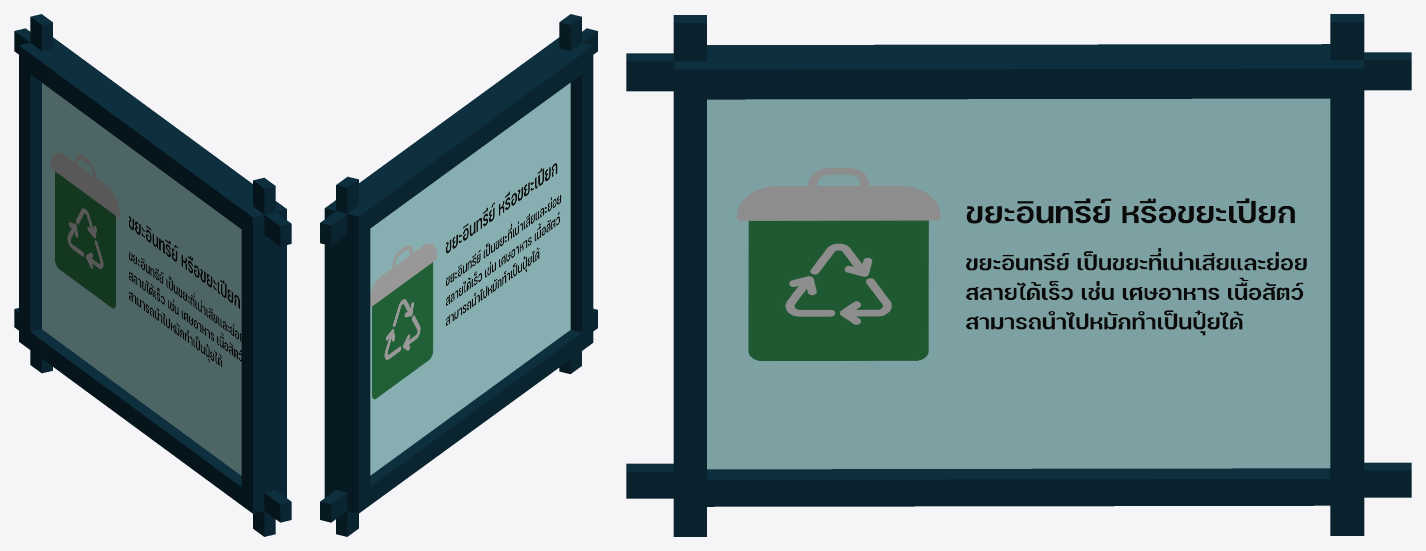
File: 02_Content_Green.fbx
3 views of the same model, side by side, from view 1: azimuth 30°, elevation 25°; view 2: azimuth 150°, elevation 25°; view 3: azimuth 270°, elevation 25° (orthographic). The views are drawn at different scales.
Parts seen in each view (by area): view 1: sign_info2; view 2: sign_info2; view 3: sign_info2.
Boxes of the visible parts, <box> form: sign_info2: <box>14,14,291,536</box>; sign_info2: <box>320,14,597,536</box>; sign_info2: <box>626,14,1411,536</box>.
Bounding box in the file's own units: 0.7015 × 6.86 × 9.49.
